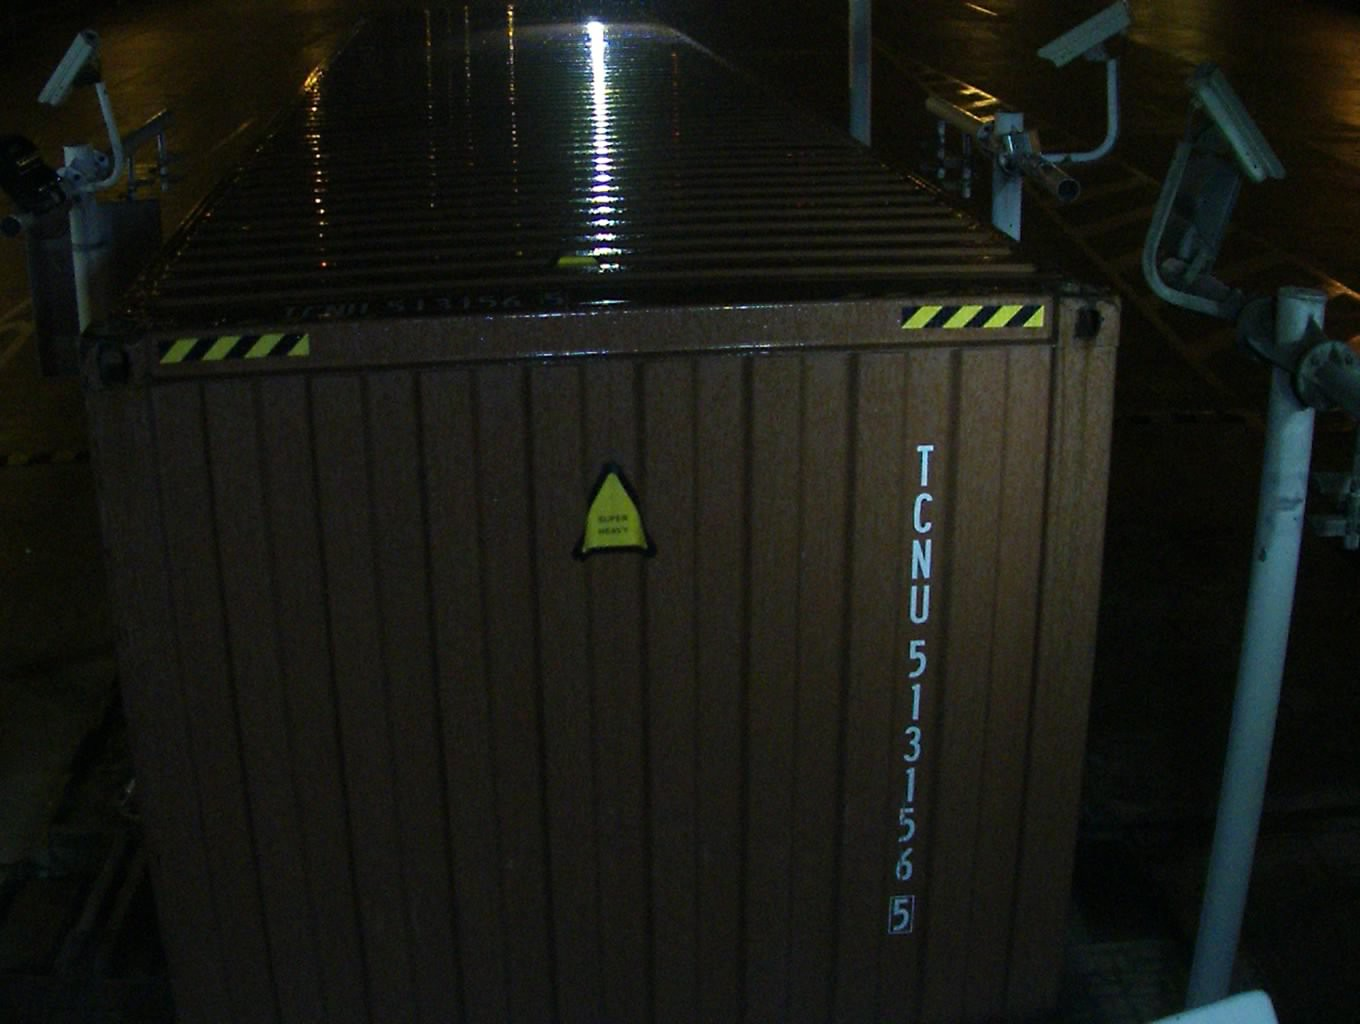words: (881, 428, 944, 936)
